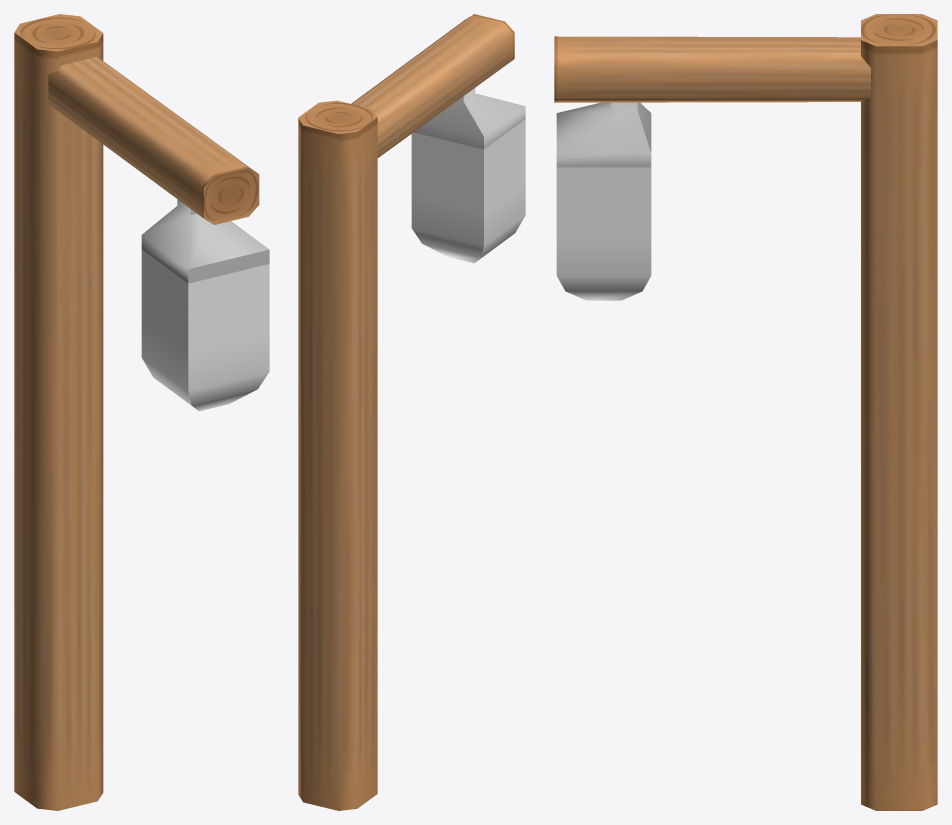
File: Palm Wood Lamp Post Hand.fbx
3 renders of one model, left to right at view 1: azimuth 30°, elevation 25°; view 2: azimuth 150°, elevation 25°; view 3: azimuth 270°, elevation 25°, orthographic. The views are drawn at different scales.
Parts seen in each view (by area): view 1: FencePost (1), MineLight (4); view 2: FencePost (1), MineLight (4); view 3: FencePost (1), MineLight (4).
Boxes of the visible parts, x1=… form: FencePost (1): x1=14, y1=14, x2=259, y2=810; MineLight (4): x1=141, y1=199, x2=269, y2=411; FencePost (1): x1=298, y1=14, x2=514, y2=810; MineLight (4): x1=411, y1=88, x2=525, y2=263; FencePost (1): x1=554, y1=14, x2=937, y2=810; MineLight (4): x1=556, y1=102, x2=651, y2=300.
Bounding box in the file's own units: 0.2049 × 1.83 × 0.8325.
4 materials, 3 textured.
